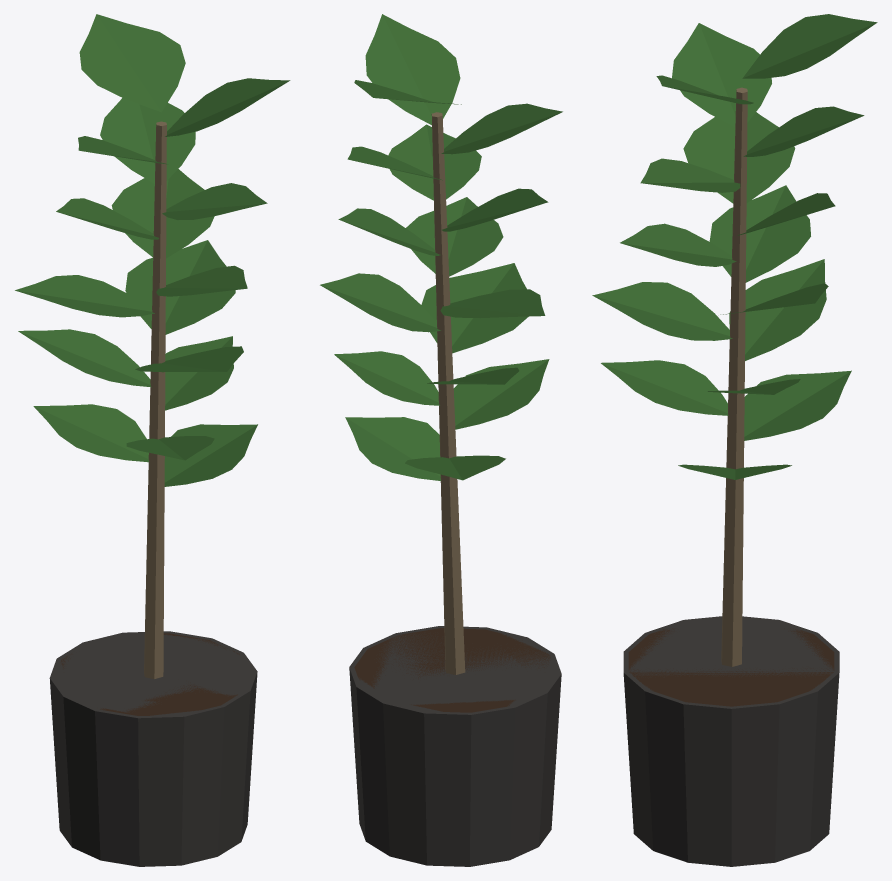
File: plant_fiddle.glb
The picture shows the model from 3 angles, left to right: view 1: azimuth 30°, elevation 25°; view 2: azimuth 150°, elevation 25°; view 3: azimuth 270°, elevation 25°; orthographic projection. The views are drawn at different scales.
Visible parts, largest first — view 1: Plant_fiddle; view 2: Plant_fiddle; view 3: Plant_fiddle.
Part boxes in pixels (x1,y1,x2,y2): Plant_fiddle: [15, 14, 290, 866]; Plant_fiddle: [320, 14, 562, 866]; Plant_fiddle: [592, 14, 877, 866].
Size of the model in its own units: 0.5117 by 1.69 by 0.5418.
